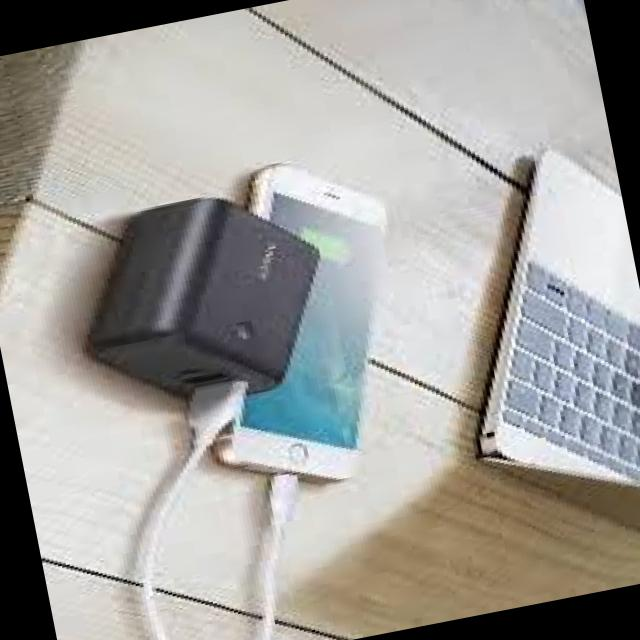power_bank: (59, 175, 348, 426)
